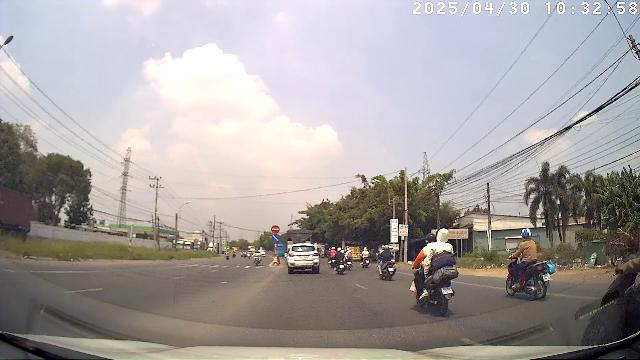102-cam-di-nguoc-chieu: (271, 225, 280, 234)
302a-huong-phai-di-vong-chuong-ngai-vat-1: (271, 234, 281, 243)
